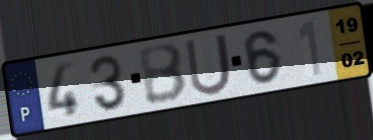1: (297, 20, 324, 78)
3: (89, 52, 127, 113)
4: (44, 60, 83, 120)
6: (241, 27, 284, 86)
B: (136, 41, 190, 108)
U: (182, 30, 235, 98)
